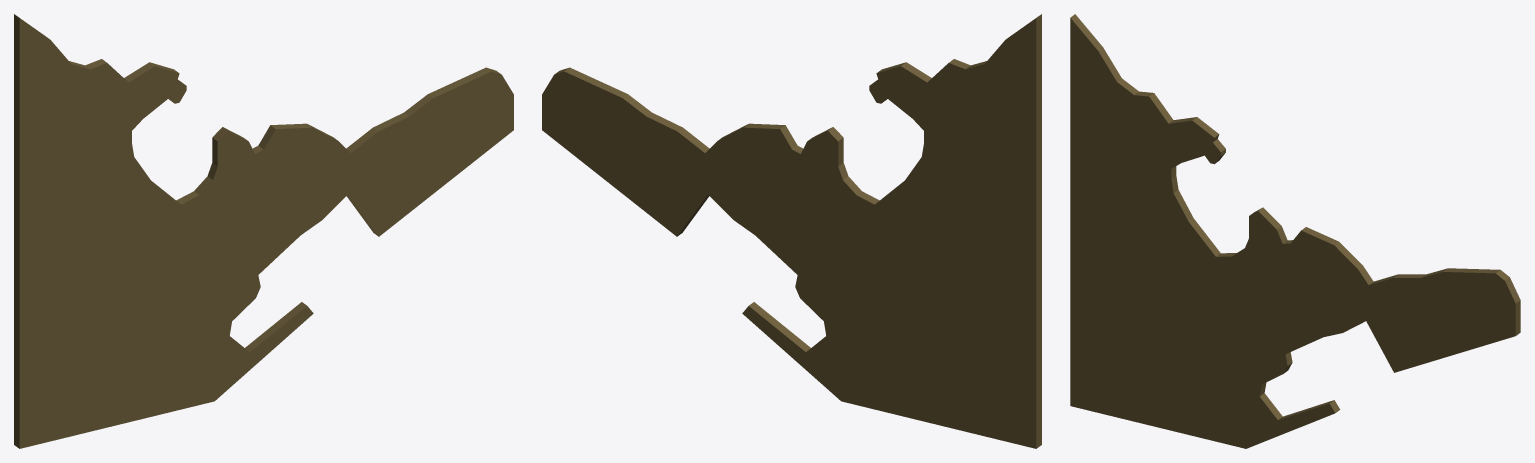
The model's file is chart_obstacle_002.obj.
3 renders of one model, left to right at view 1: azimuth 30°, elevation 25°; view 2: azimuth 150°, elevation 25°; view 3: azimuth 330°, elevation 25°, orthographic. The views are drawn at different scales.
Visible parts, largest first — view 1: chart_obstacle_002; view 2: chart_obstacle_002; view 3: chart_obstacle_002.
Boxes of the visible parts, x1,y1,x2,y2 form: chart_obstacle_002: (14,14,513,448); chart_obstacle_002: (542,14,1041,448); chart_obstacle_002: (1070,14,1520,448).
Bounding box in the file's own units: 414 × 345 × 8.
